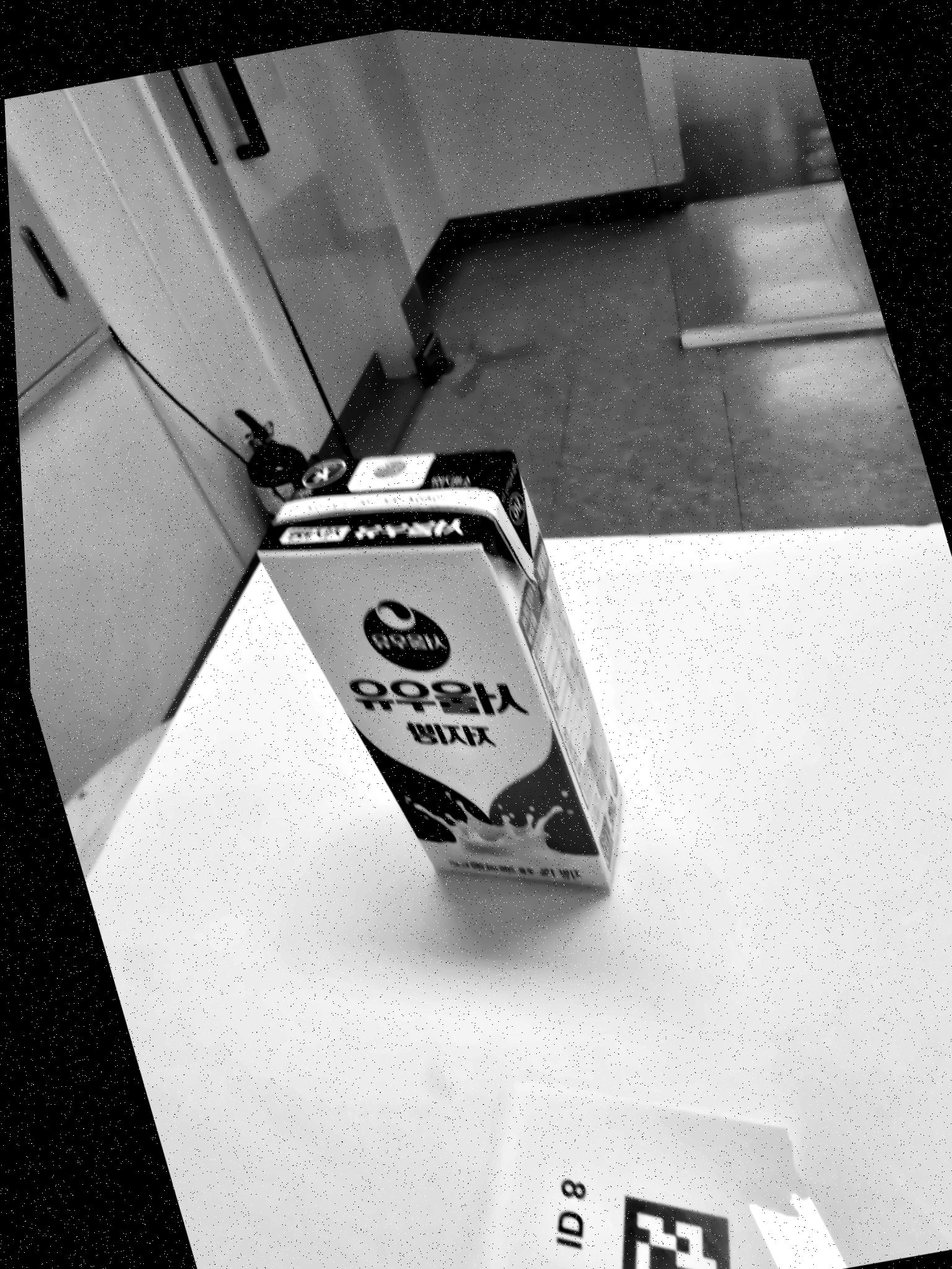milk_blue: (253, 445, 625, 890)
